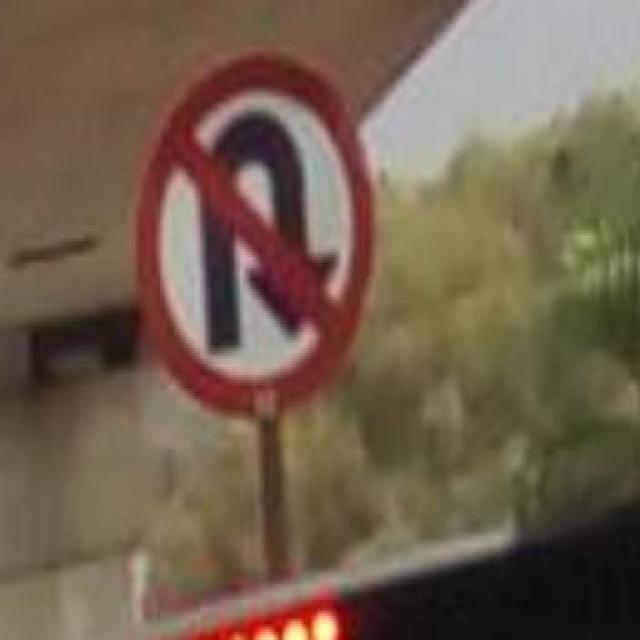traffic sign: (131, 54, 382, 416)
